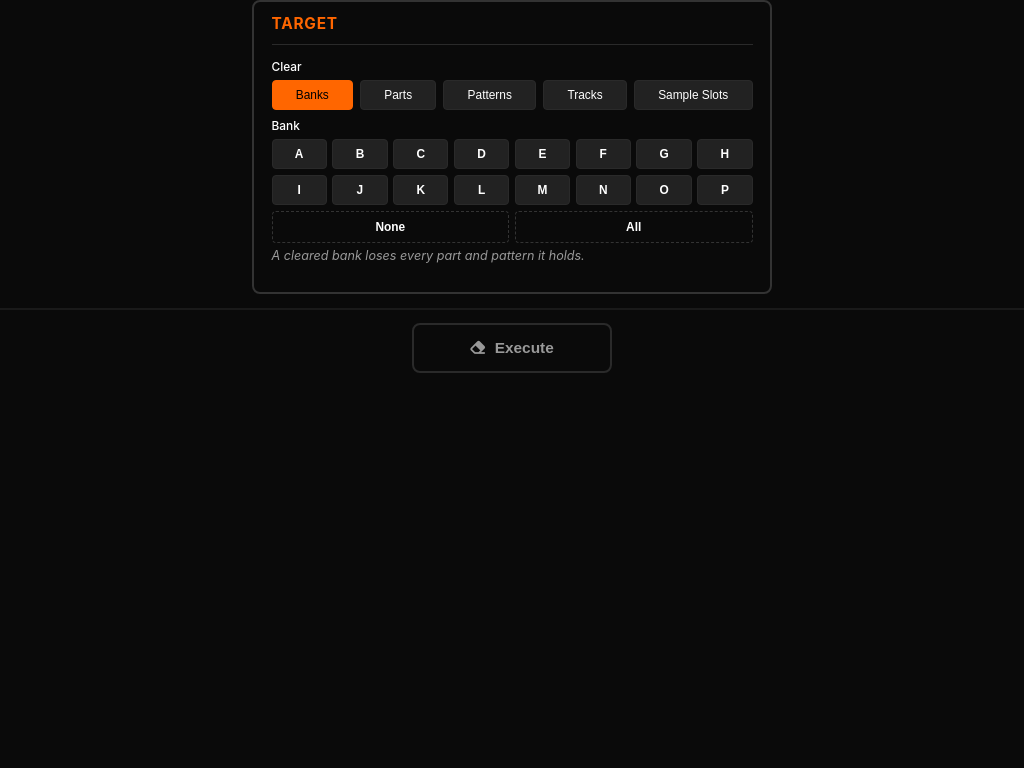
it: ClearProjectPanel - side effects › reports a backend failure instead of claiming success
This screenshot has width=1024, height=768.
Click the button "A" at coordinates (299, 154), box left=272, top=139, right=327, bottom=169
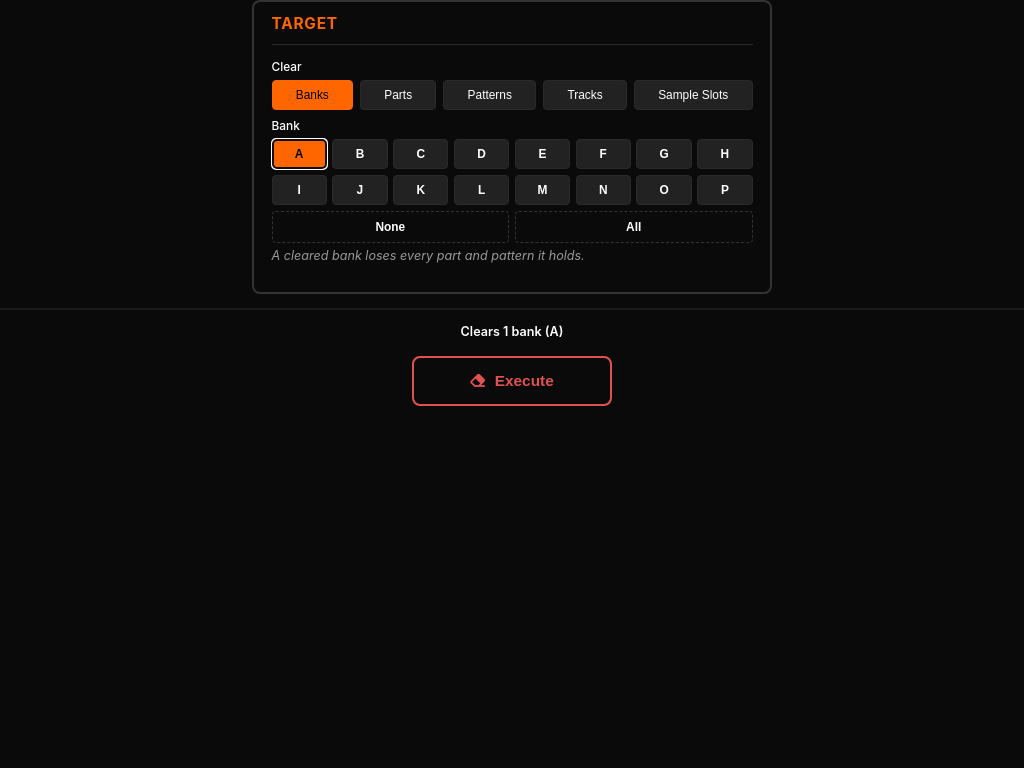
Click the button "Execute" at coordinates (512, 381), box left=412, top=356, right=612, bottom=406
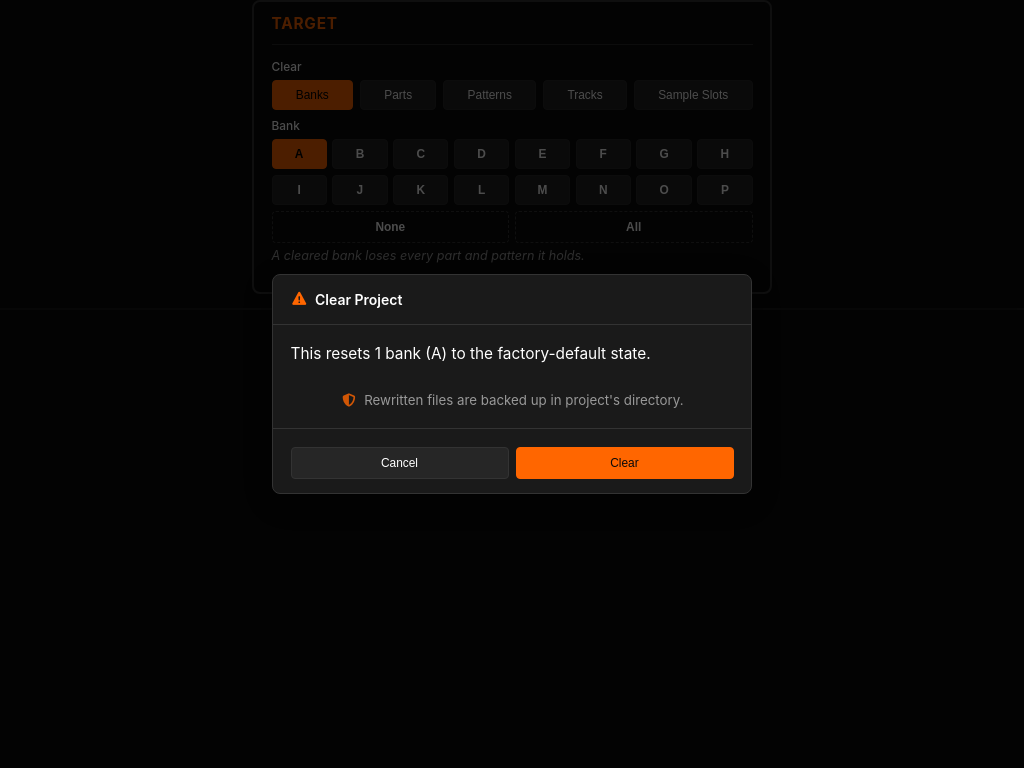
Click the button "Clear" at coordinates (624, 463), box left=516, top=447, right=734, bottom=479
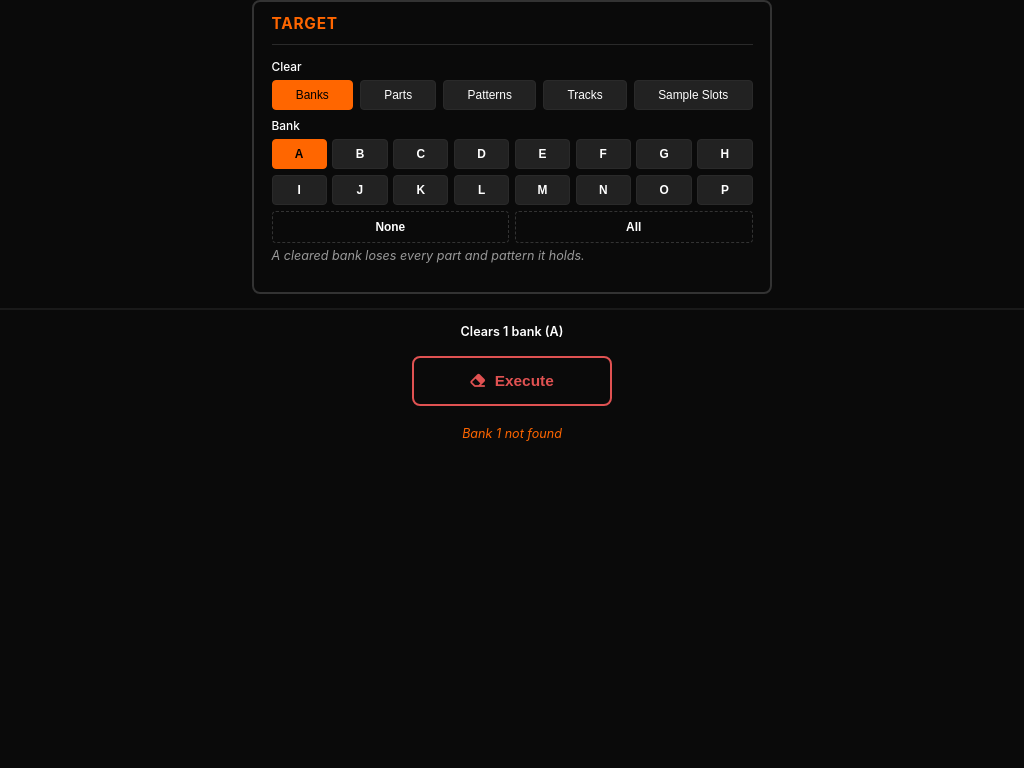
Expected: the text "Bank 1 not found" is shown, left=462, top=425, right=562, bottom=444
